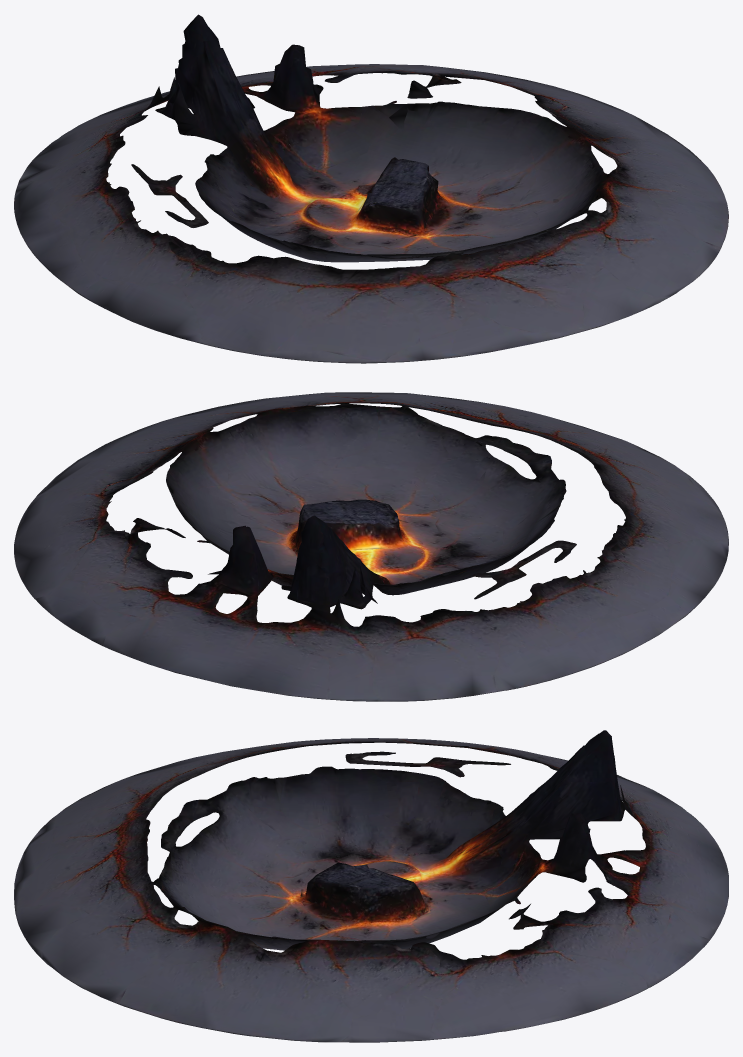
Rendered from crater.glb.
The picture shows the model from 3 angles, top to bottom: view 1: azimuth 30°, elevation 25°; view 2: azimuth 150°, elevation 25°; view 3: azimuth 270°, elevation 25°; orthographic projection. The views are drawn at different scales.
Visible parts, largest first — view 1: node_0; view 2: node_0; view 3: node_0.
Part boxes in pixels (left/top/right/bottom): node_0: left=14, top=14, right=728, bottom=363; node_0: left=14, top=392, right=728, bottom=701; node_0: left=14, top=730, right=728, bottom=1042.
Size of the model in its own units: 1.14 by 0.2335 by 1.14.
Materials: 1 (1 with a texture image).
